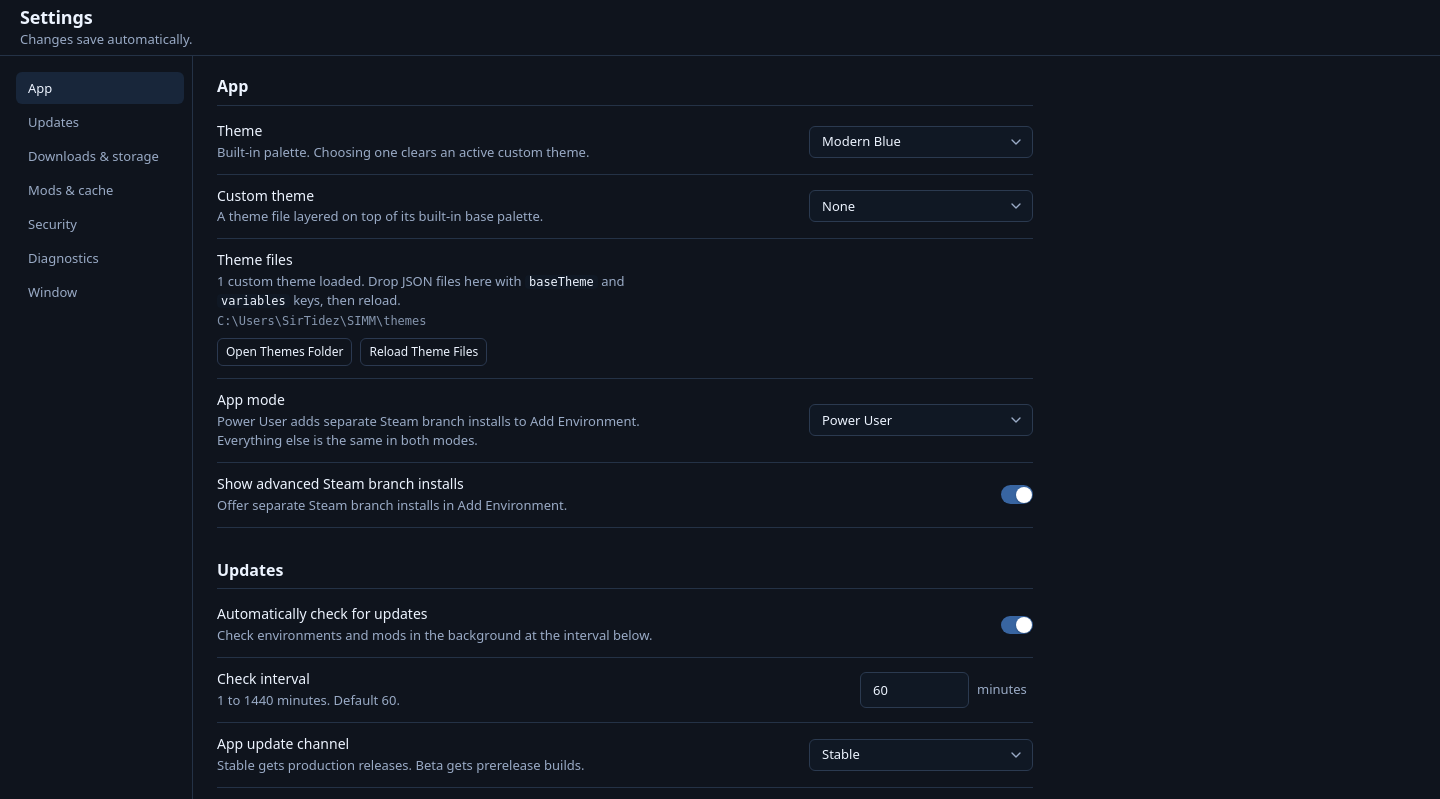
Test case: Settings › shows separate built-in and custom theme selectors
Click the dropdown named "theme preset" at coordinates (921, 142), box 809,126 -> 1033,158
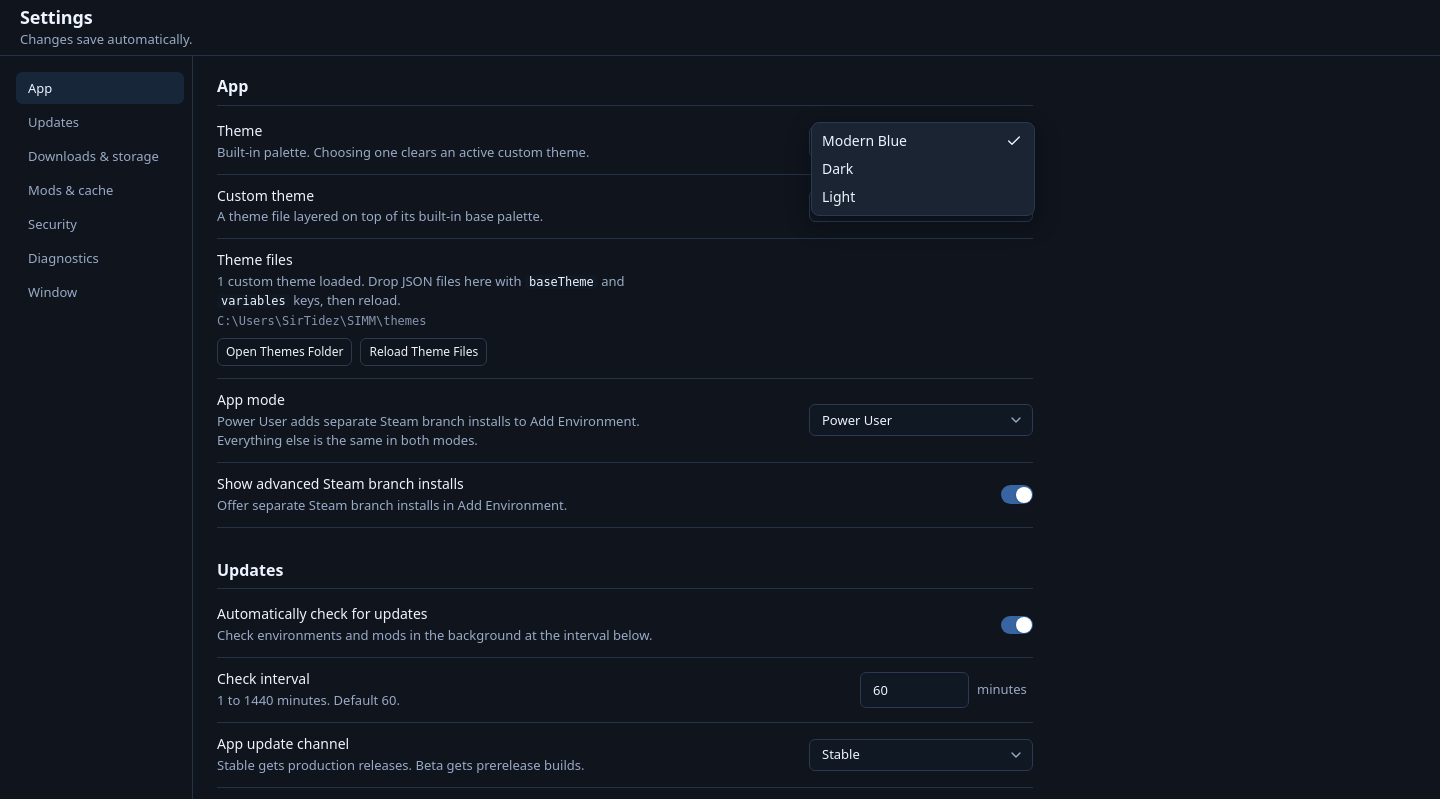
Result: the option "Modern Blue" is shown at 816,127 -> 1030,155
Result: the option "Dark" is shown at 822,159 -> 853,178
Result: the option "Light" is shown at 822,187 -> 855,206
Press Escape
Click the dropdown named "custom theme" at coordinates (921, 206), box 809,190 -> 1033,222
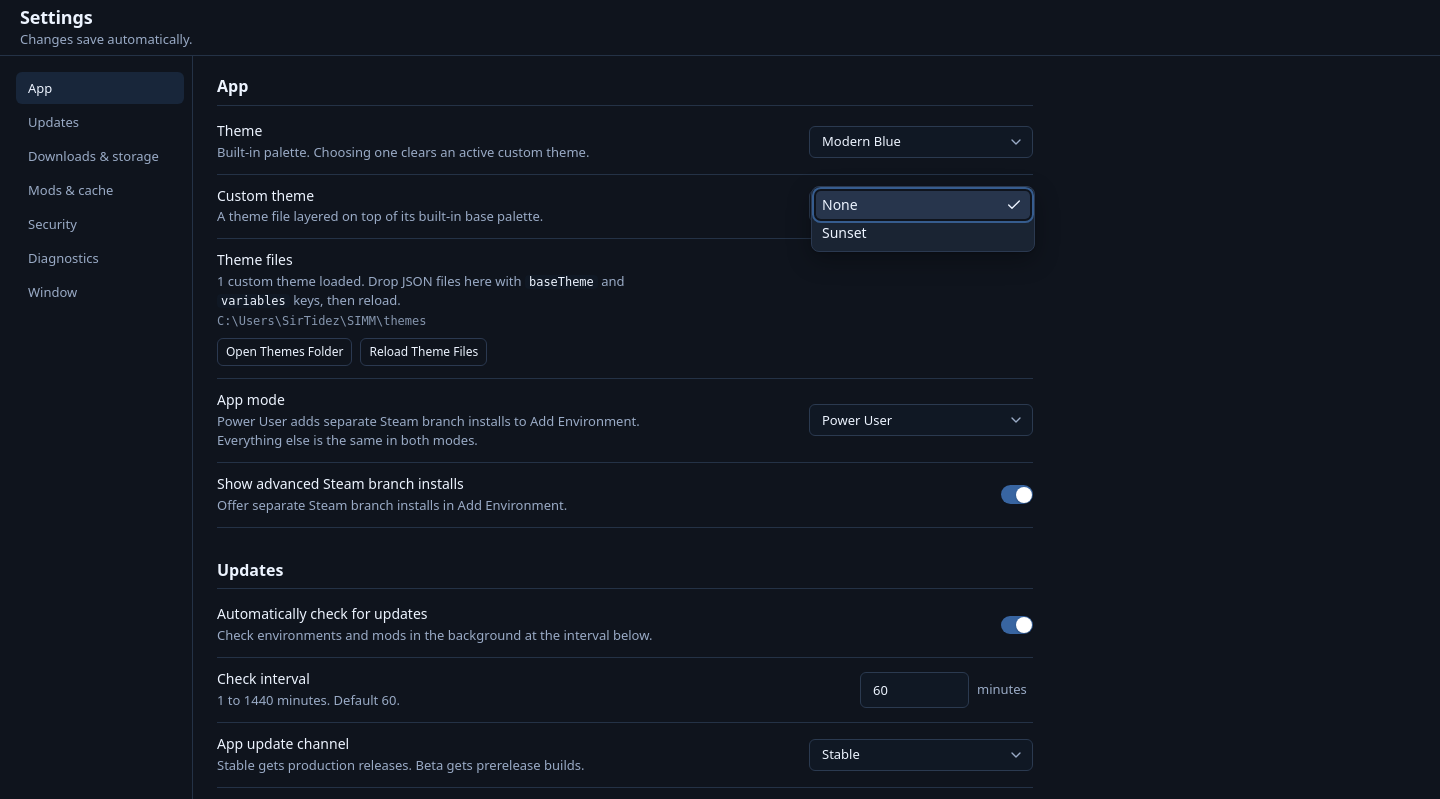
Expected: the text "Drop JSON files here" is shown, 368,272 -> 525,290
Result: the option "None" is shown at 816,191 -> 1030,219
Result: the text "Sunset" is shown at 822,223 -> 867,242
